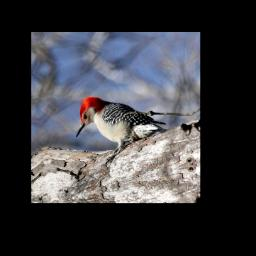Woodpecker: (67, 72, 176, 180)
